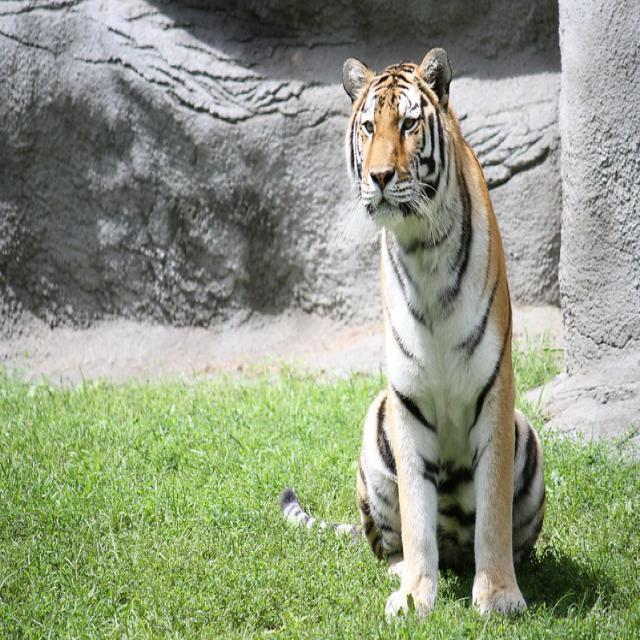Tiger: (336, 46, 544, 620)
